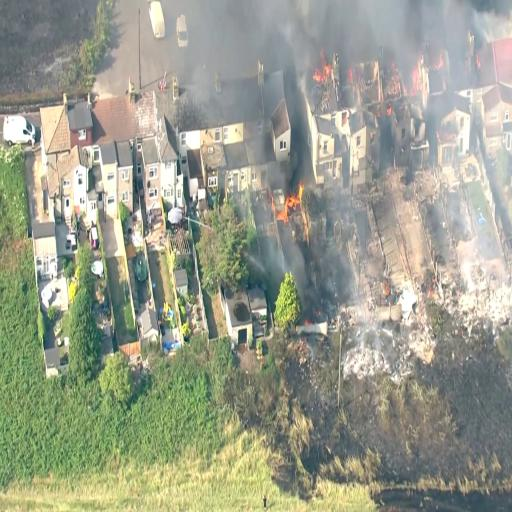fire: (264, 172, 311, 232)
smoke: (212, 0, 433, 65)
